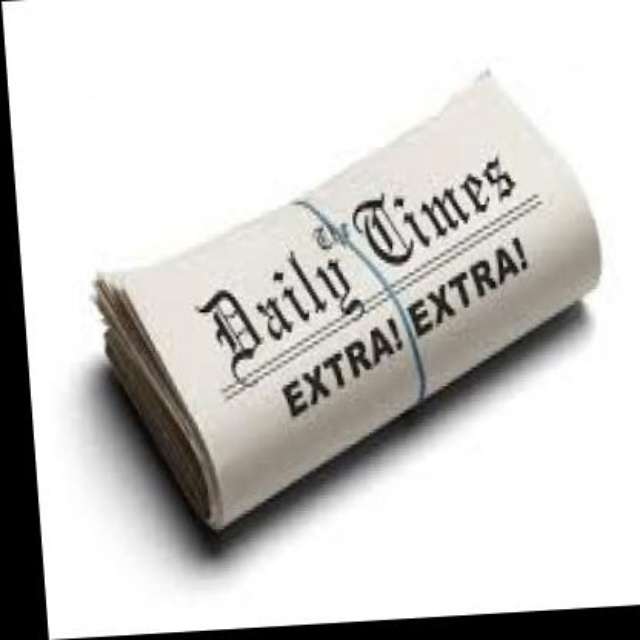trash: (97, 75, 598, 529)
